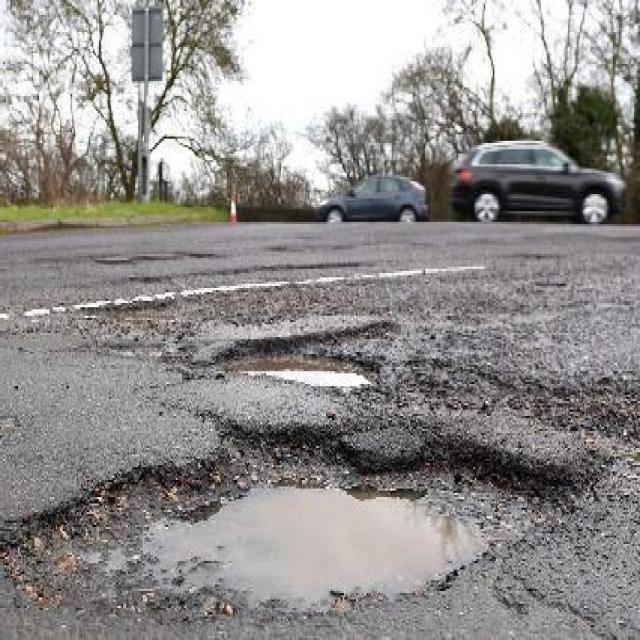pothole: (0, 359, 602, 640), (5, 418, 579, 621), (212, 316, 397, 393), (225, 305, 400, 375), (218, 337, 384, 401), (535, 373, 640, 448), (534, 375, 640, 445), (99, 246, 212, 267), (96, 246, 218, 265), (81, 294, 171, 318), (82, 298, 166, 323)
